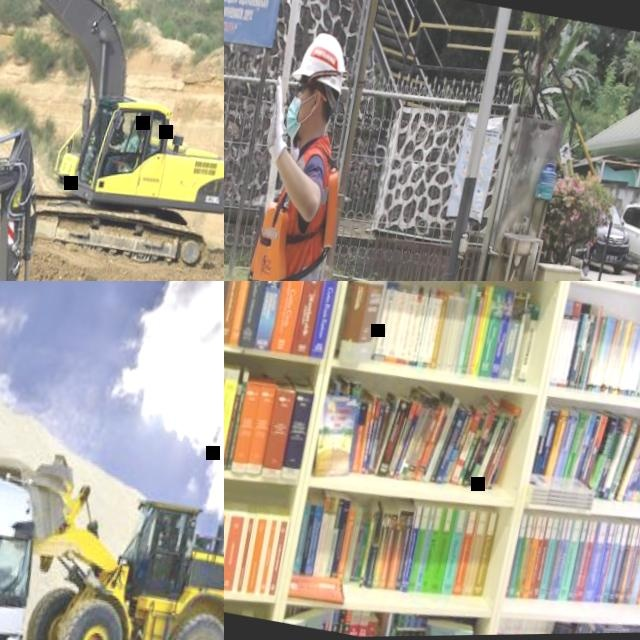Hardhat: (291, 29, 356, 97)
Mask: (282, 89, 318, 142)
NO-Hardhat: (130, 121, 140, 132)
Person: (224, 19, 375, 281), (103, 119, 145, 183)
Safety Vest: (239, 151, 350, 281), (121, 135, 141, 157)
machinery: (0, 0, 224, 281), (0, 432, 224, 640), (0, 62, 76, 281)
vehicle: (581, 201, 637, 281), (608, 196, 640, 281)
